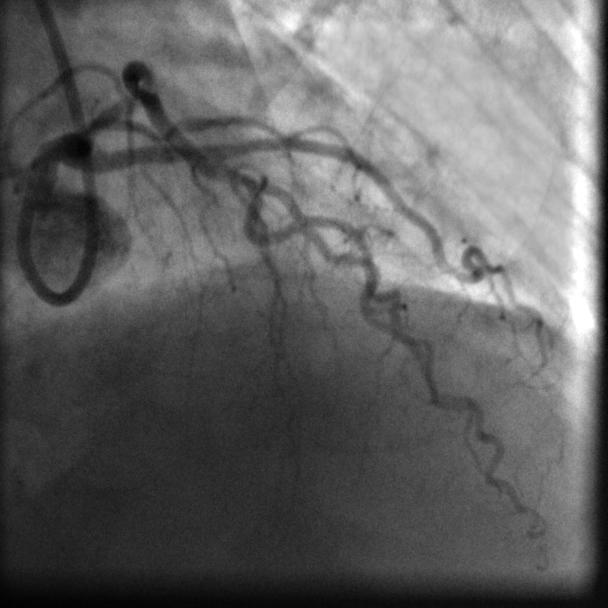Stenosis: (127, 70, 155, 111)
